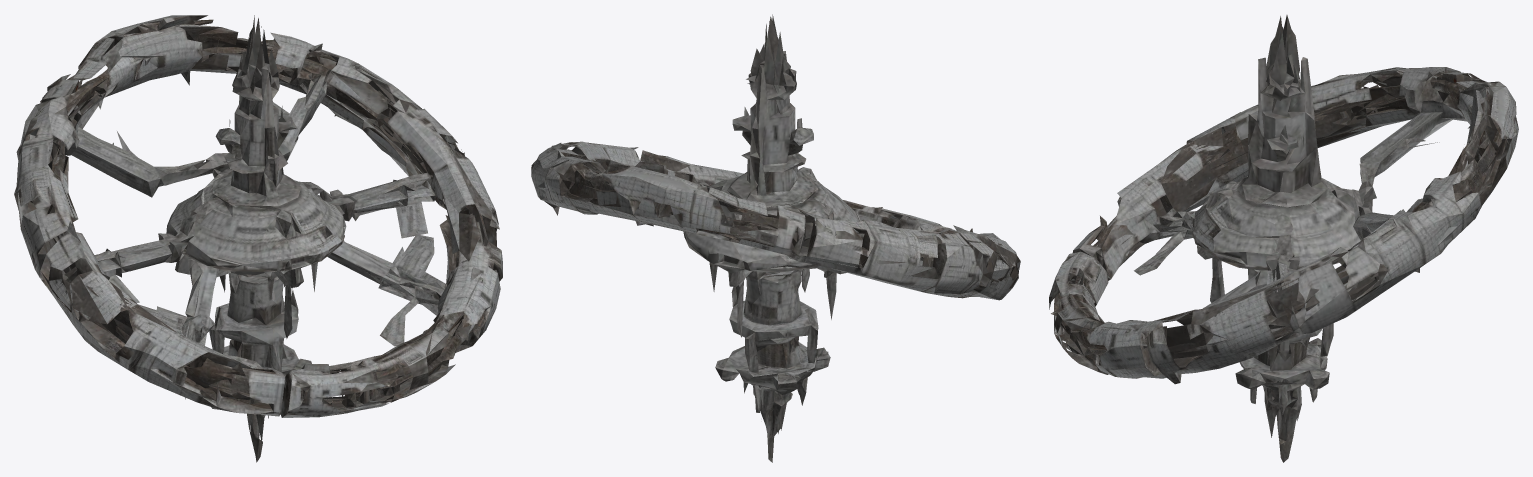
File: monument_abandoned_station.glb
The picture shows the model from 3 angles, left to right: view 1: azimuth 30°, elevation 25°; view 2: azimuth 150°, elevation 25°; view 3: azimuth 270°, elevation 25°; orthographic projection.
Parts seen in each view (by area): view 1: output_unwrapped; view 2: output_unwrapped; view 3: output_unwrapped.
Part boxes in pixels (x1,y1,x2,y2): output_unwrapped: (14,15,502,462); output_unwrapped: (531,14,1020,462); output_unwrapped: (1049,15,1518,462).
Size of the model in its own units: 1.89 by 1.89 by 1.8.
Materials: 1 (1 with a texture image).
